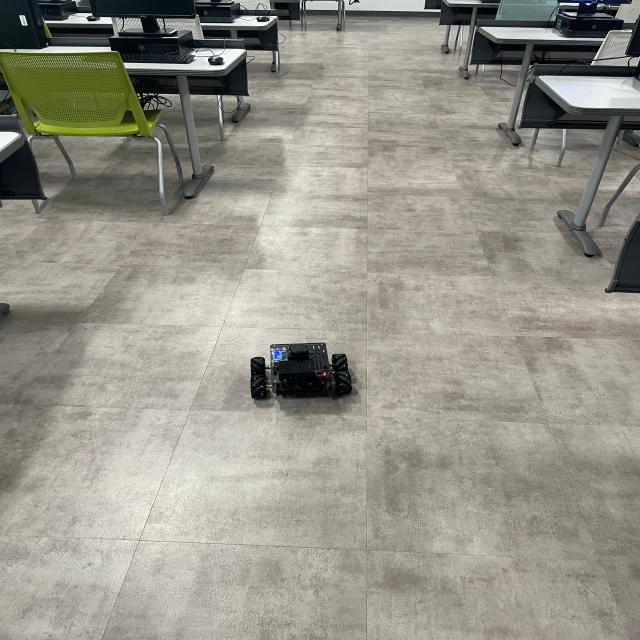ArduinoCar3: (242, 337, 358, 405)
